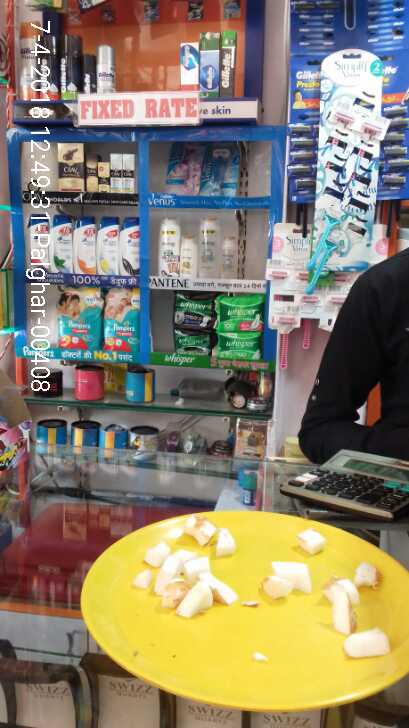gillete: (60, 33, 82, 99), (200, 30, 221, 96), (221, 31, 237, 96), (180, 39, 198, 88), (98, 45, 114, 90), (83, 54, 98, 90)
venus: (272, 269, 320, 371), (305, 210, 342, 293), (198, 142, 241, 196), (163, 142, 198, 196)
